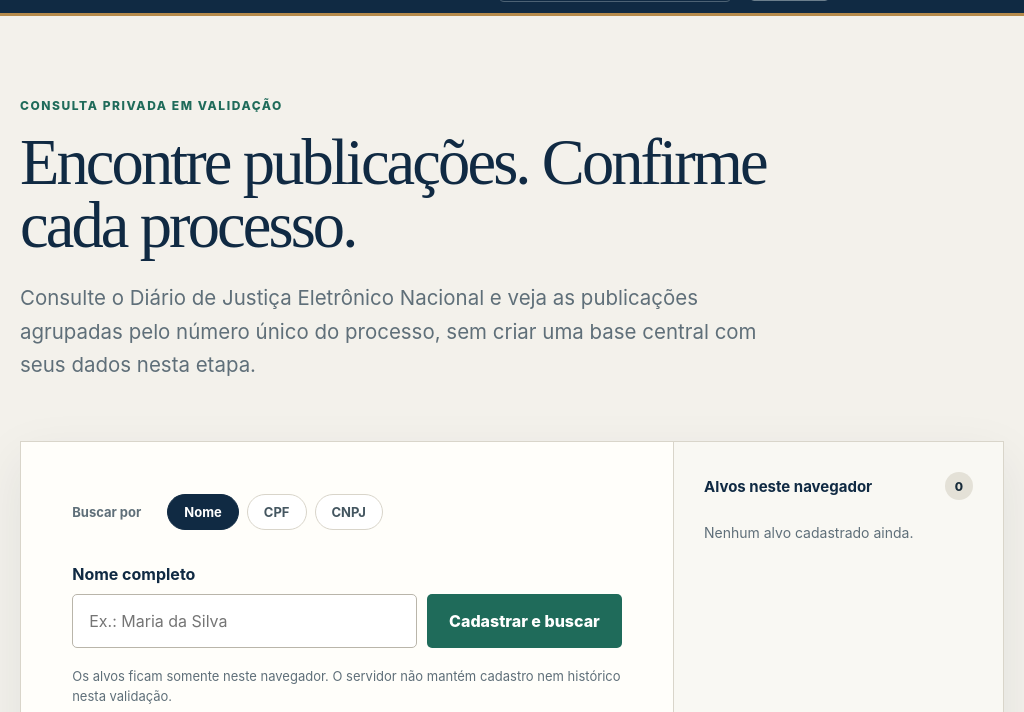
Test: App › does not consult the source before the user signs in
The width and height of the screenshot is (1024, 712).
In the field labelled "Nome completo": (245, 620) [72,594,417,648], type "Pessoa Exemplo"
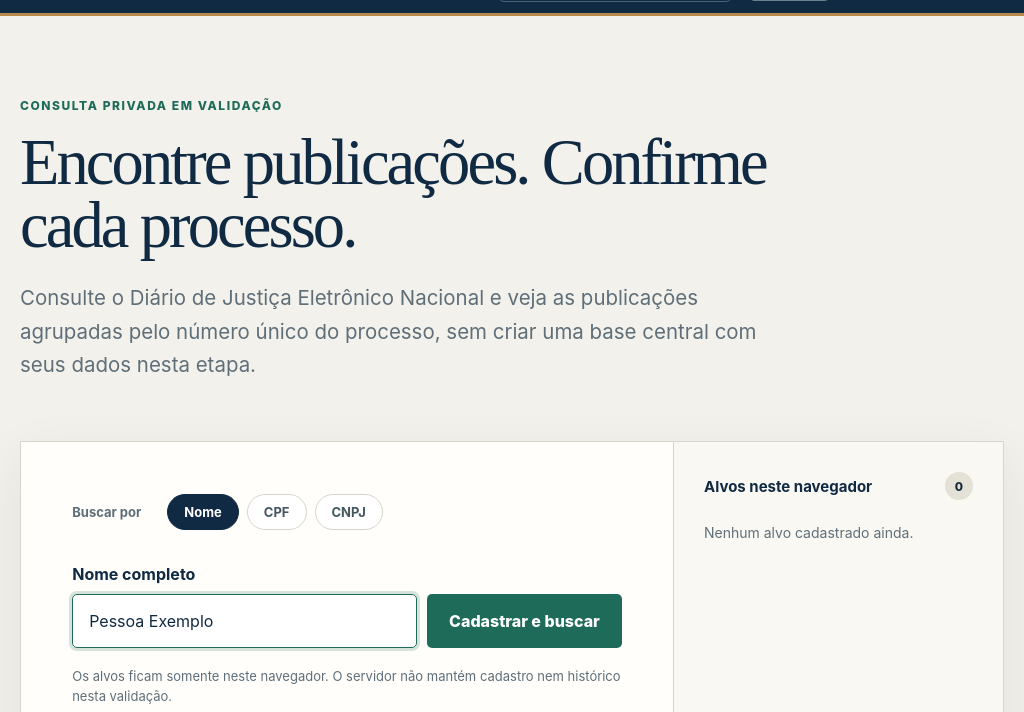
Click the button "Cadastrar e buscar": (524, 620) [427,594,622,648]
(page scrolled)
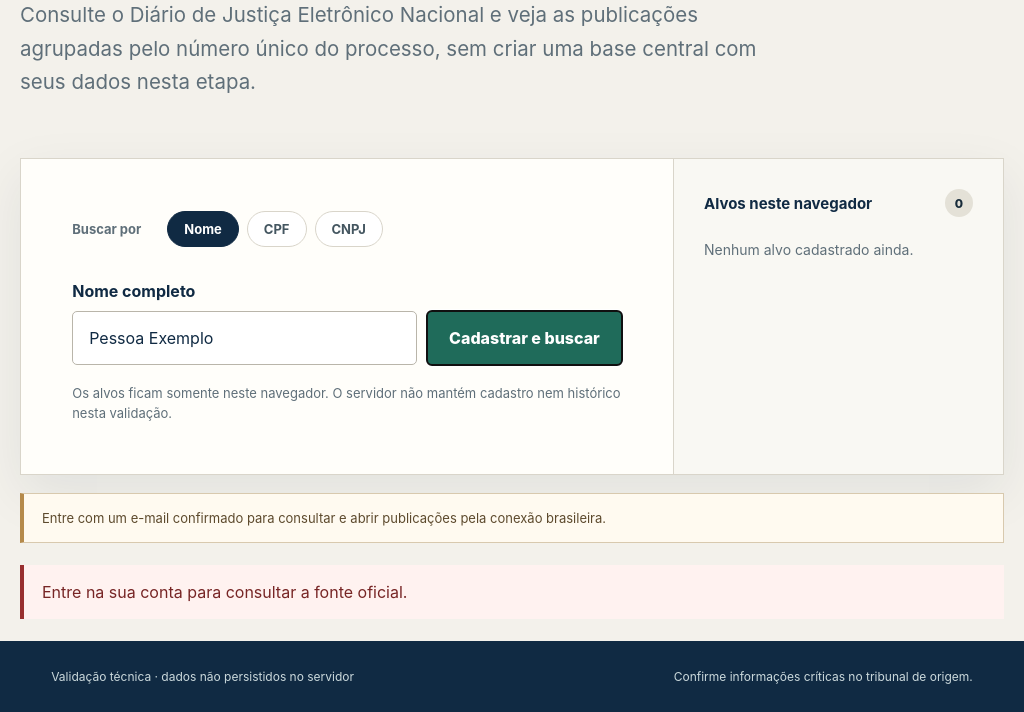
Expected: the message shows "Entre na sua conta", [42,582,407,602]
